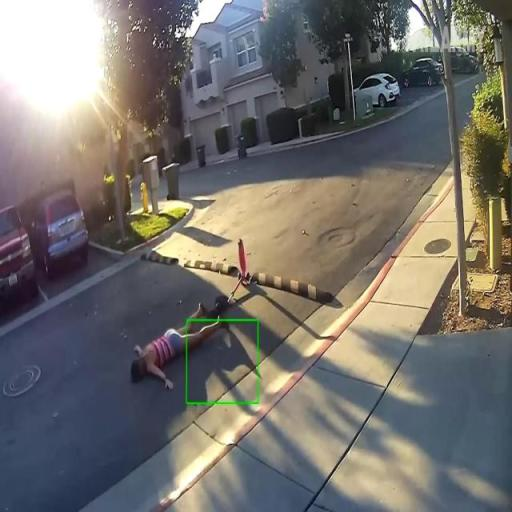Fall: (129, 295, 226, 392)
